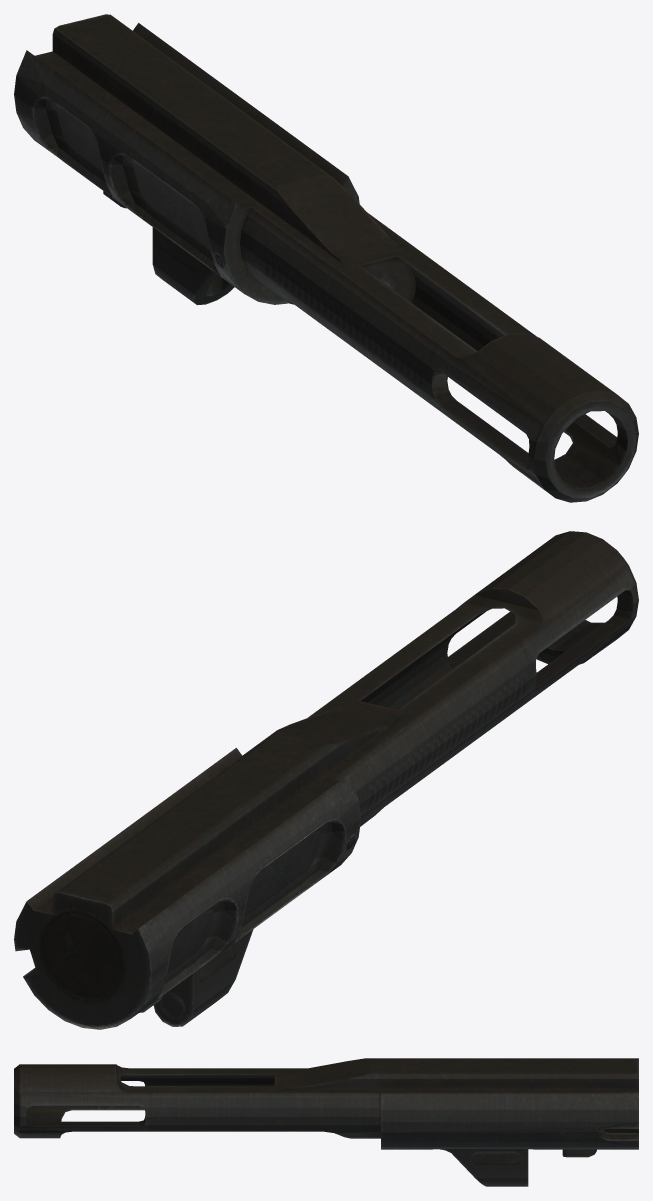
3 views of the same model, one above another, from view 1: azimuth 30°, elevation 25°; view 2: azimuth 150°, elevation 25°; view 3: azimuth 270°, elevation 25° (orthographic). The views are drawn at different scales.
Parts seen in each view (by area): view 1: TW_5fc22d7c187fea44d52eda44_PZ_Import; view 2: TW_5fc22d7c187fea44d52eda44_PZ_Import; view 3: TW_5fc22d7c187fea44d52eda44_PZ_Import.
Part boxes in pixels (x1,y1,x2,y2): TW_5fc22d7c187fea44d52eda44_PZ_Import: [14, 14, 638, 502]; TW_5fc22d7c187fea44d52eda44_PZ_Import: [14, 531, 638, 1029]; TW_5fc22d7c187fea44d52eda44_PZ_Import: [14, 1058, 638, 1186].
Bounding box in the file's own units: 0.0185 × 0.1187 × 0.025.
Materials: 1 (1 with a texture image).
